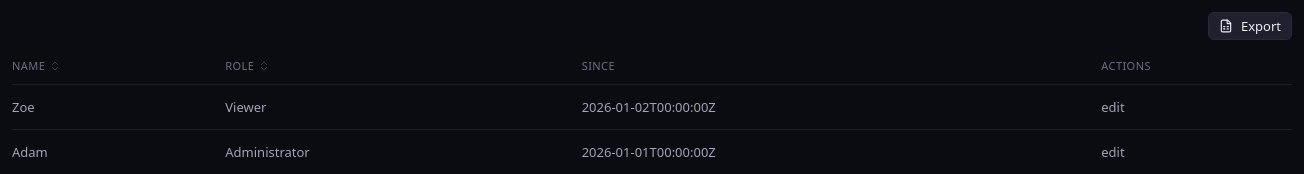
Test: DataTable export button › shows an error when the export fails
The width and height of the screenshot is (1304, 174).
Click the button with aria-label "Export People to Excel".
click(1250, 26)  # box [1208,12,1292,40]
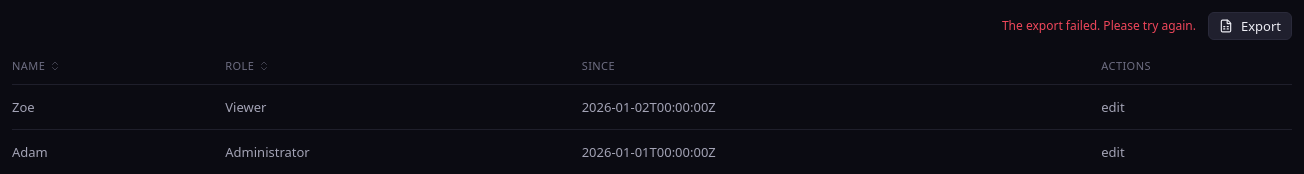
expect the message shows "export failed": met, box [1002,17,1196,34]
